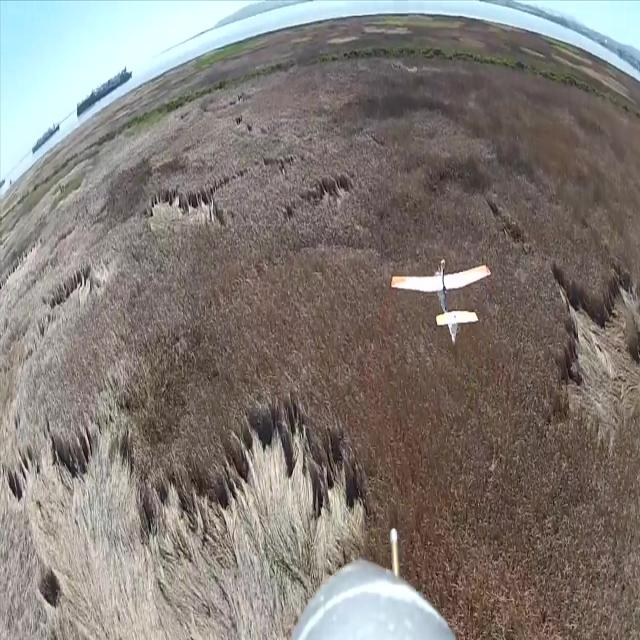iha: (422, 287, 460, 314)
